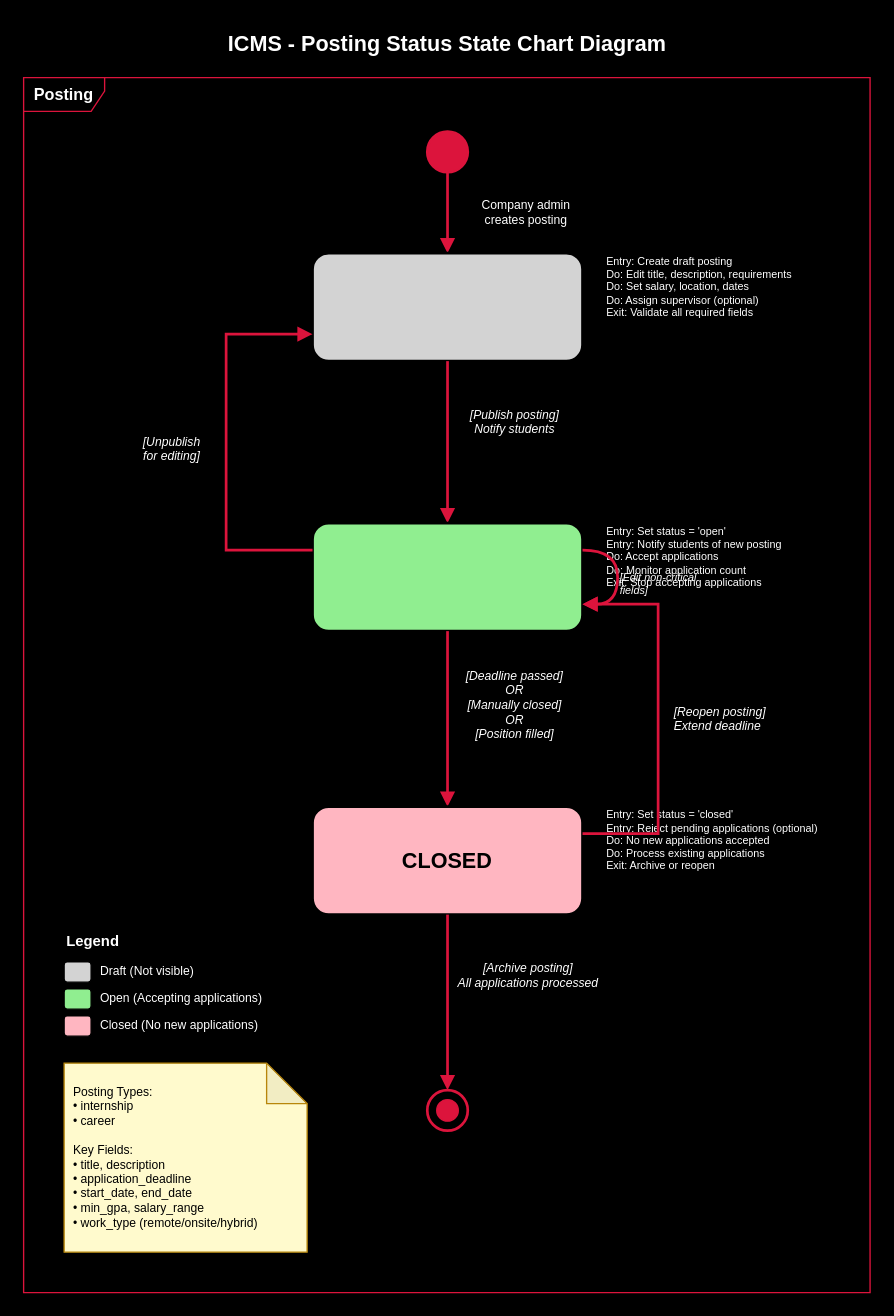
The diagram is 894 pixels wide and 1316 high, and some of its shapes have lost their labels. Each missing label, with the centre of its shape:
"DRAFT" goes at pixel 446 306.
"OPEN" goes at pixel 446 576.
